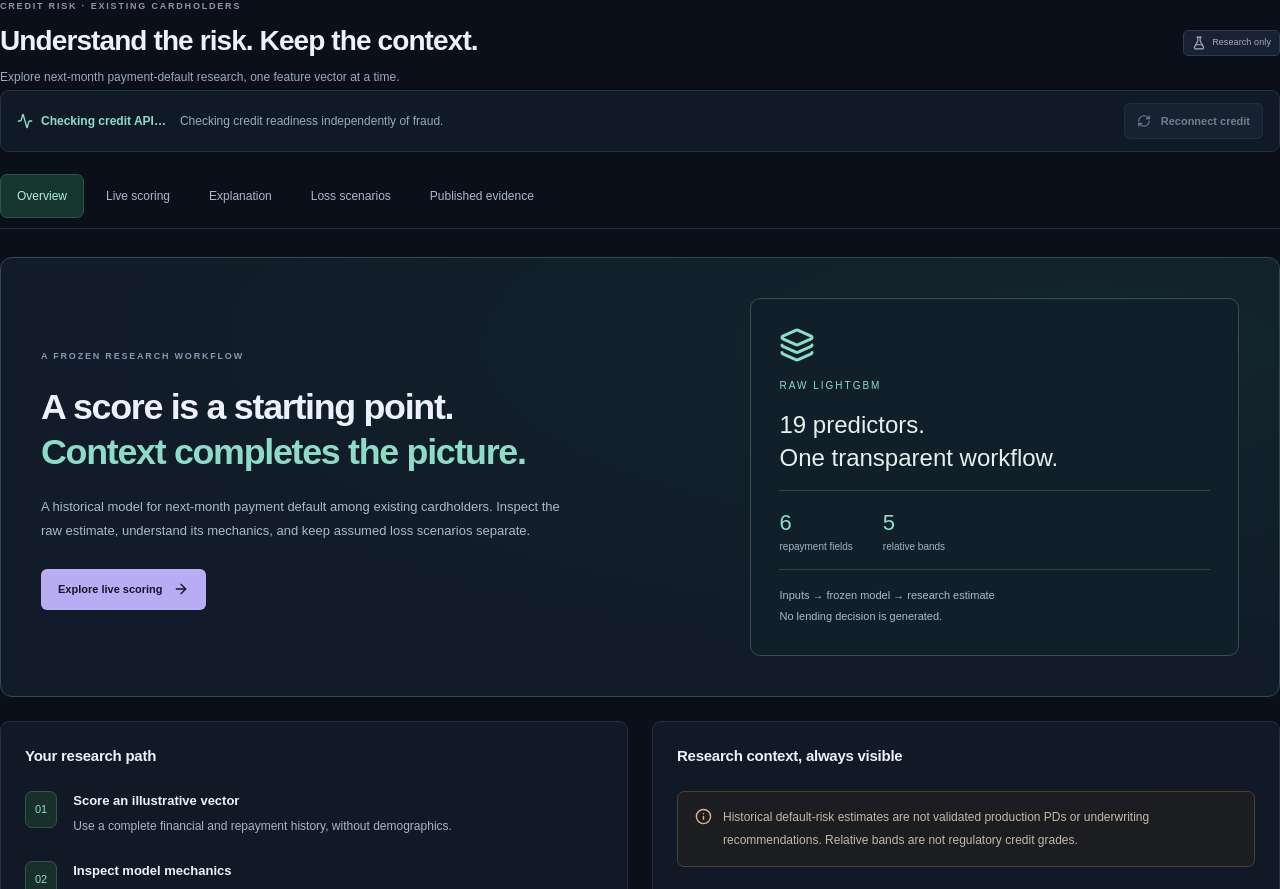
Test: credit research workspace › requires confirmed assumptions and accurately sends percentage fractions
Step 1. Click the tab "Loss scenarios" → click(351, 196), box x1=294 y1=174 x2=408 y2=218
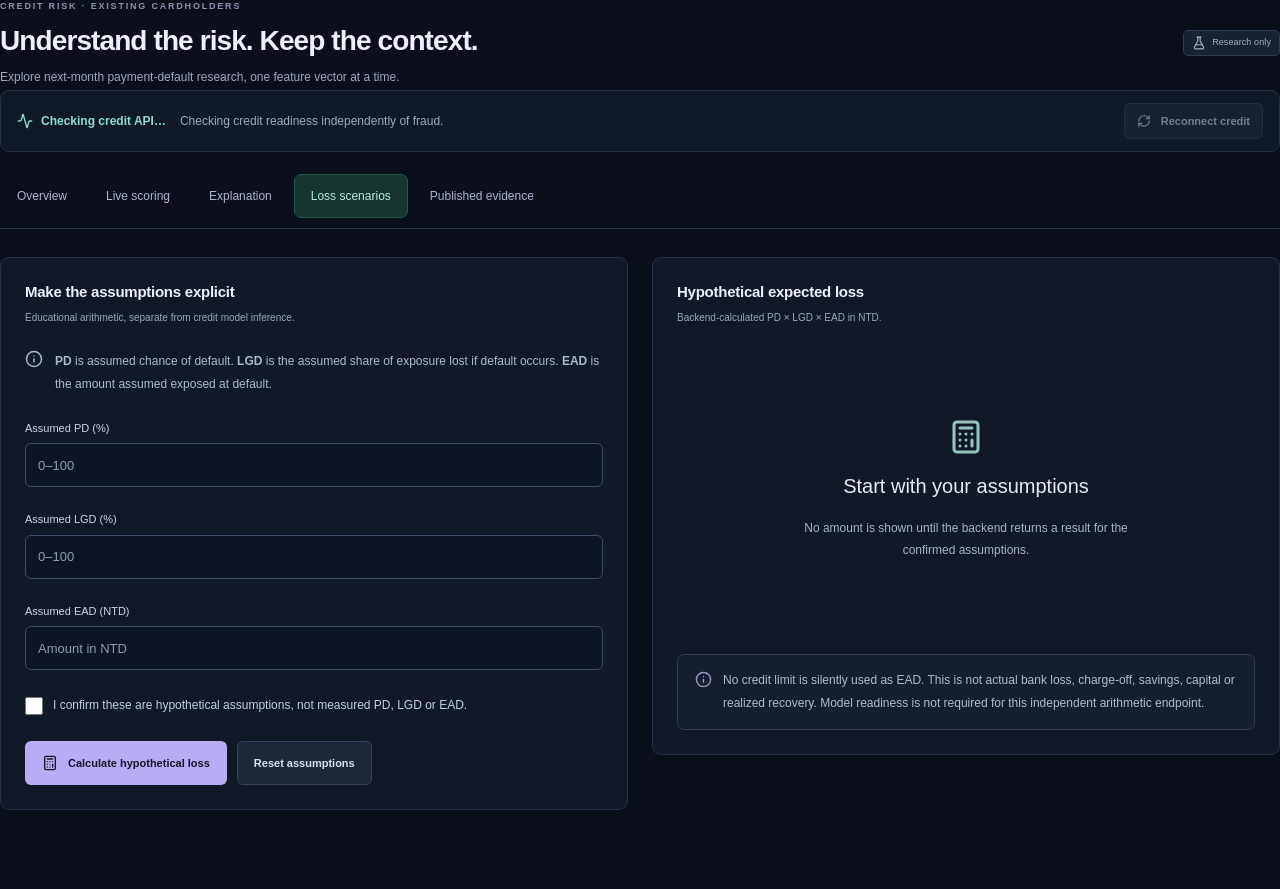
Step 2. Click the button "Calculate hypothetical loss" → click(126, 763), box x1=25 y1=741 x2=227 y2=785
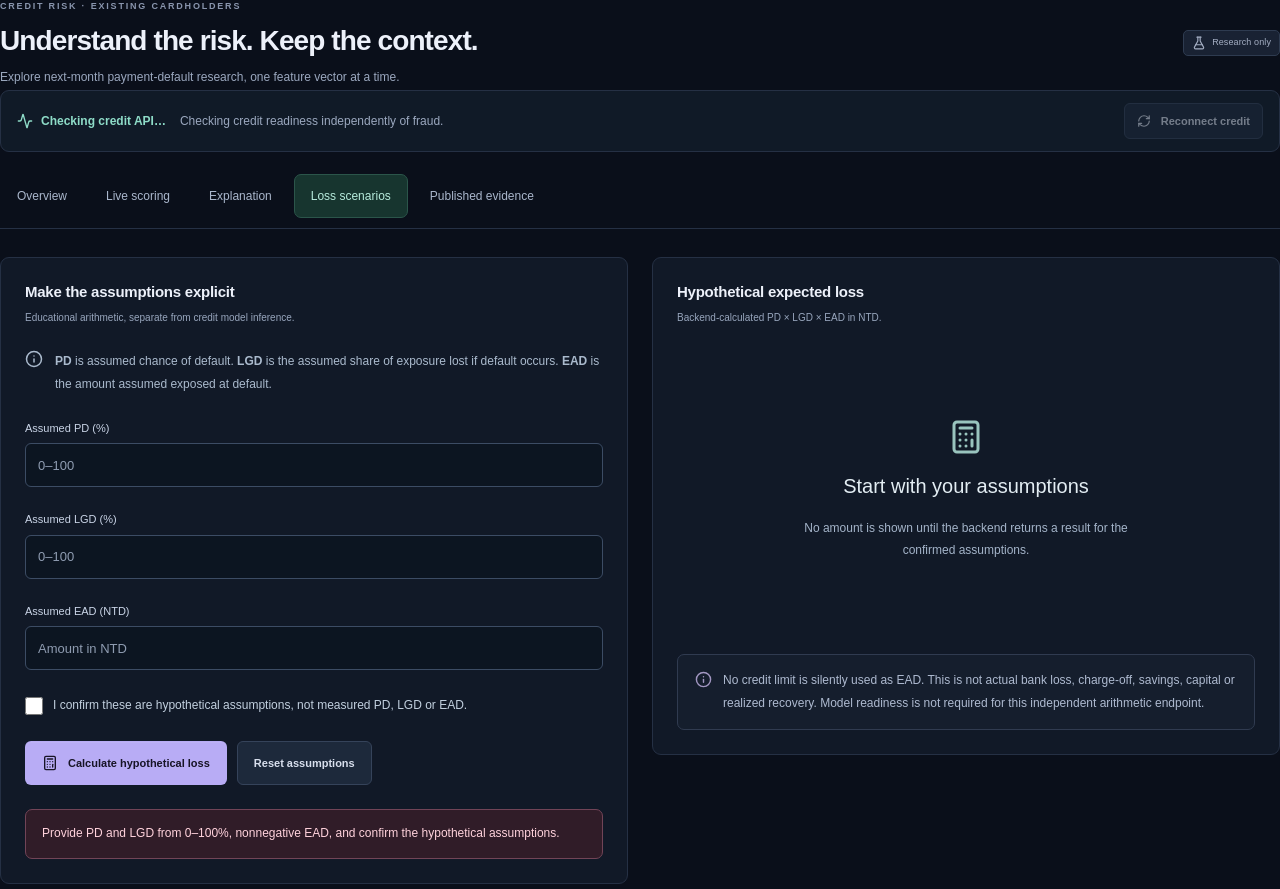
Expected: the 2nd message shows "confirm", x1=42 y1=826 x2=560 y2=840
Step 3. Type "20" into the field labelled "Assumed PD (%)" → (314, 466), box x1=25 y1=444 x2=603 y2=488
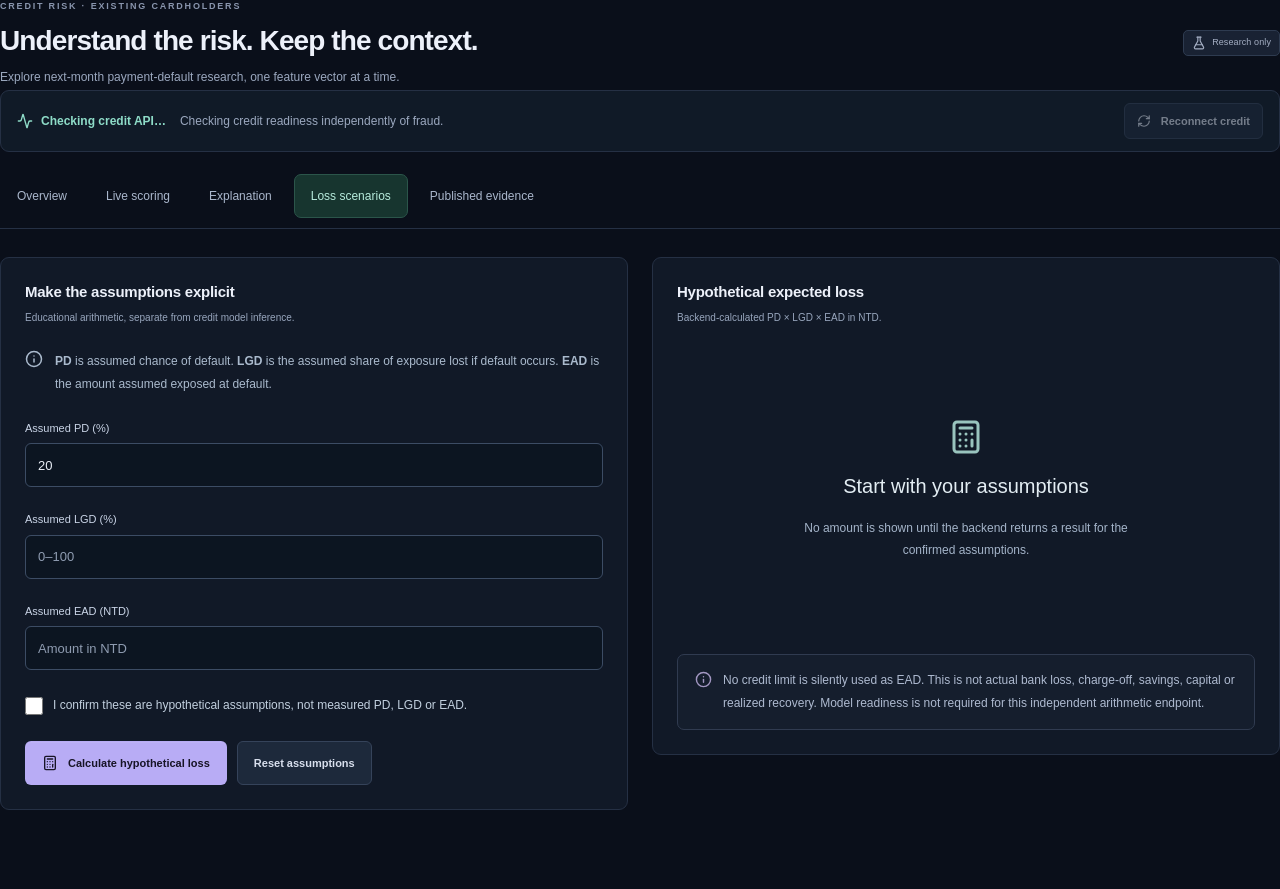
Step 4. Type "50" into the field labelled "Assumed LGD (%)" → (314, 557), box x1=25 y1=535 x2=603 y2=579
Step 5. Type "10000" into the field labelled "Assumed EAD (NTD)" → (314, 648), box x1=25 y1=626 x2=603 y2=670
Step 6. Click the checkbox → click(34, 706), box x1=25 y1=698 x2=43 y2=716
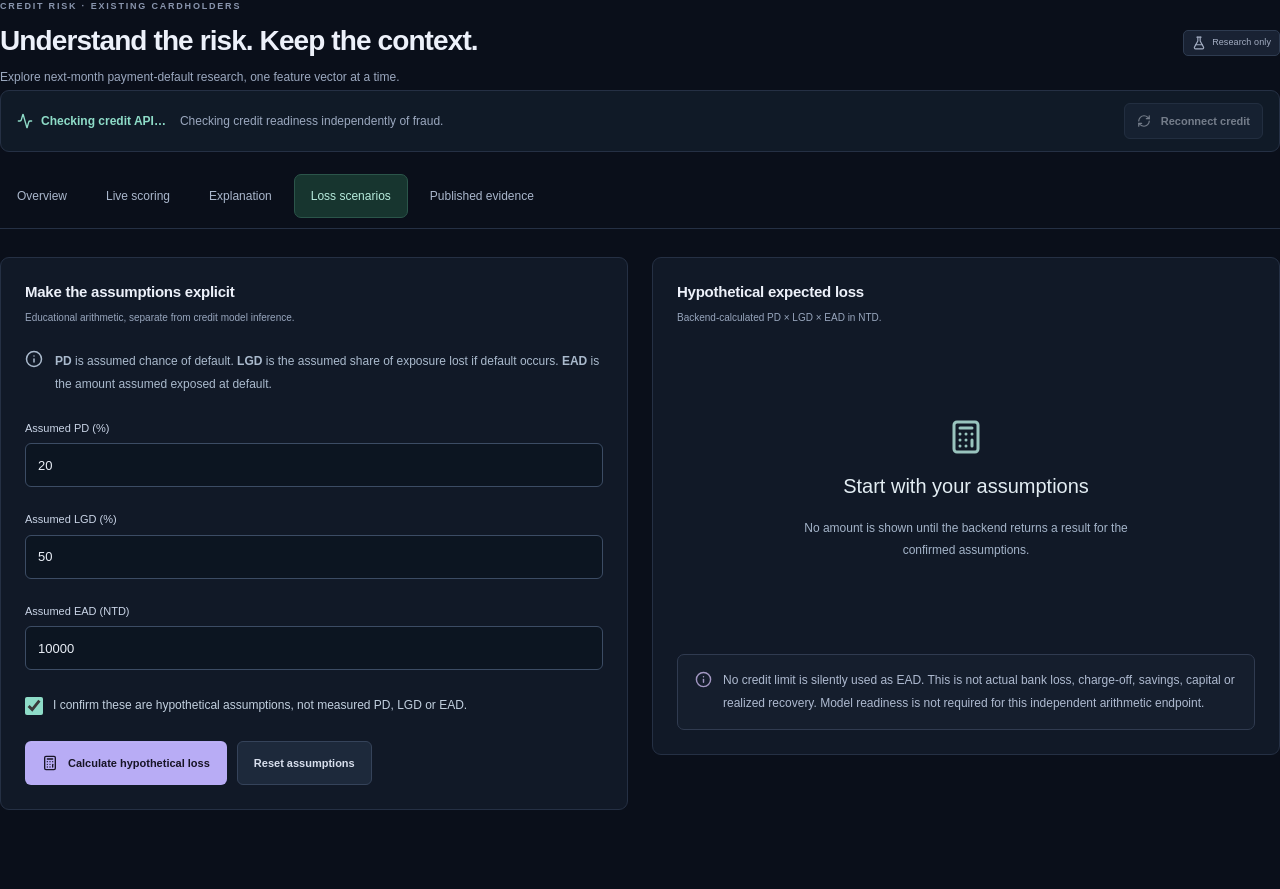
Step 7. Click the button "Calculate hypothetical loss" → click(126, 763), box x1=25 y1=741 x2=227 y2=785
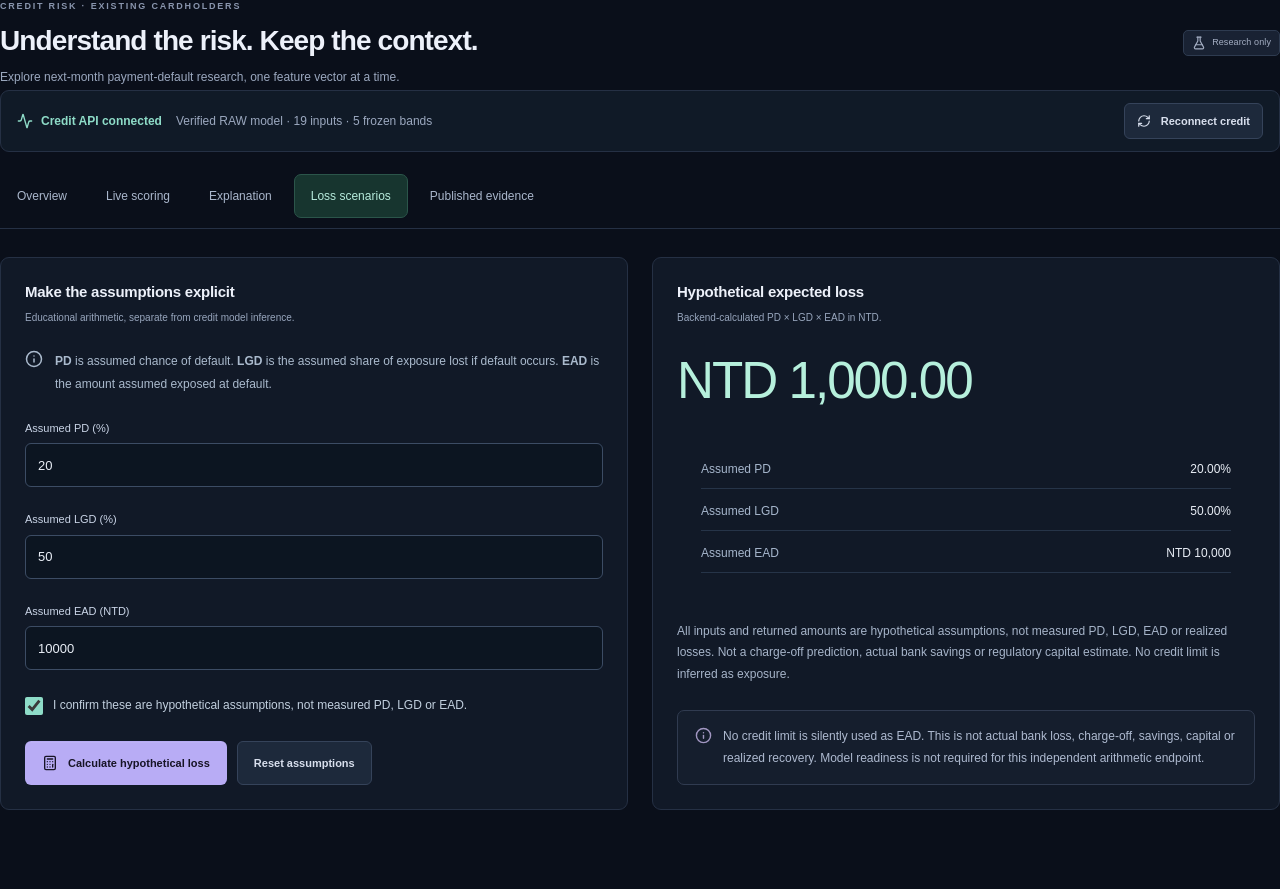
Expected: the text with test id "credit-scenario-result" reads "NTD 1,000.00", x1=677 y1=352 x2=972 y2=409
Step 8. Replace the text in the field labelled "Assumed PD (%)" with "30" → (314, 466), box x1=25 y1=444 x2=603 y2=488
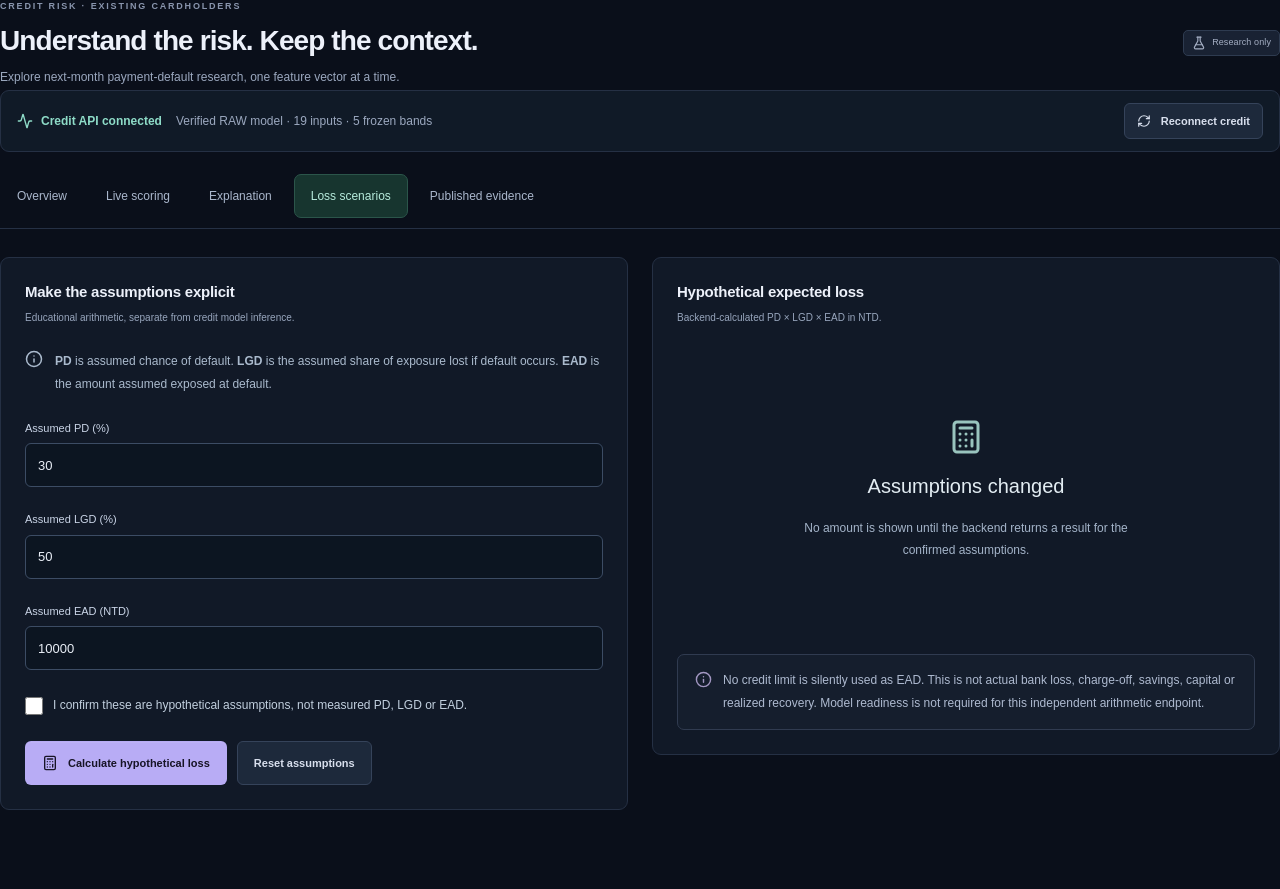
Expected: the checkbox is not checked, x1=25 y1=698 x2=43 y2=716
Expected: the text with test id "credit-scenario-result" is gone
